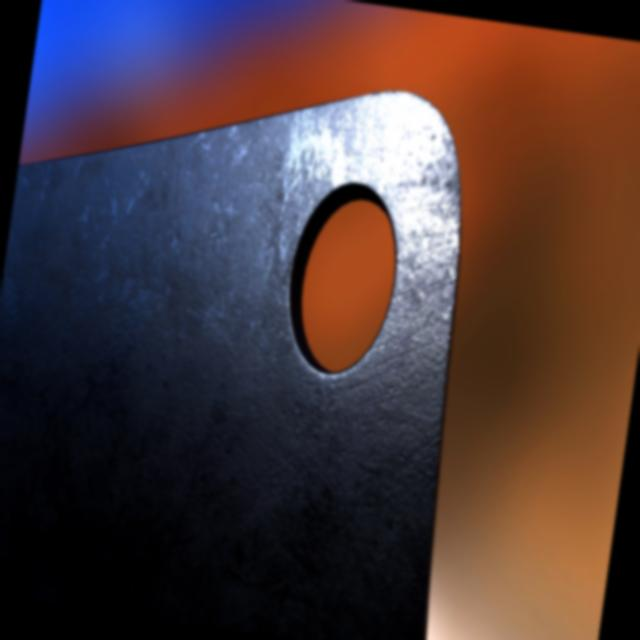cleaver: (0, 39, 496, 640)
